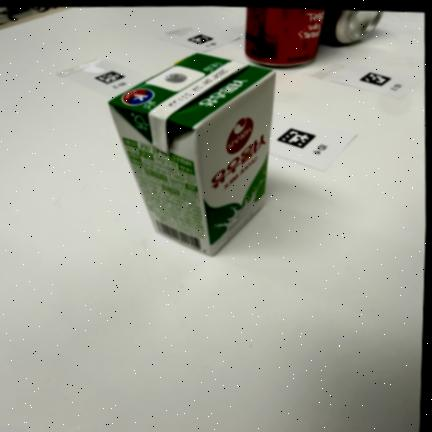milk_green: (109, 54, 276, 256)
